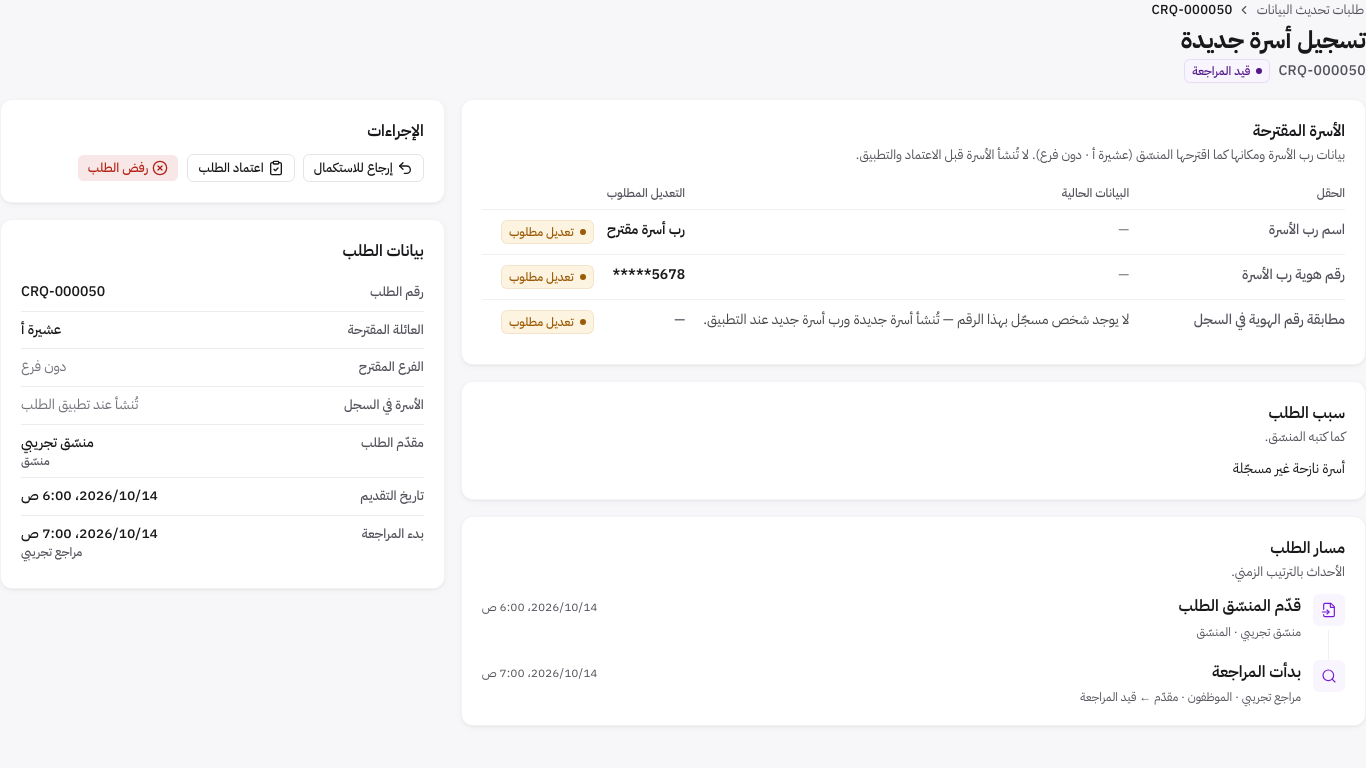
Test: the review of a proposed Family › words the placement attestation as Clan membership for a Family without a Branch
Click the button "اعتماد الطلب" at (241, 168), box [187,154,295,182]
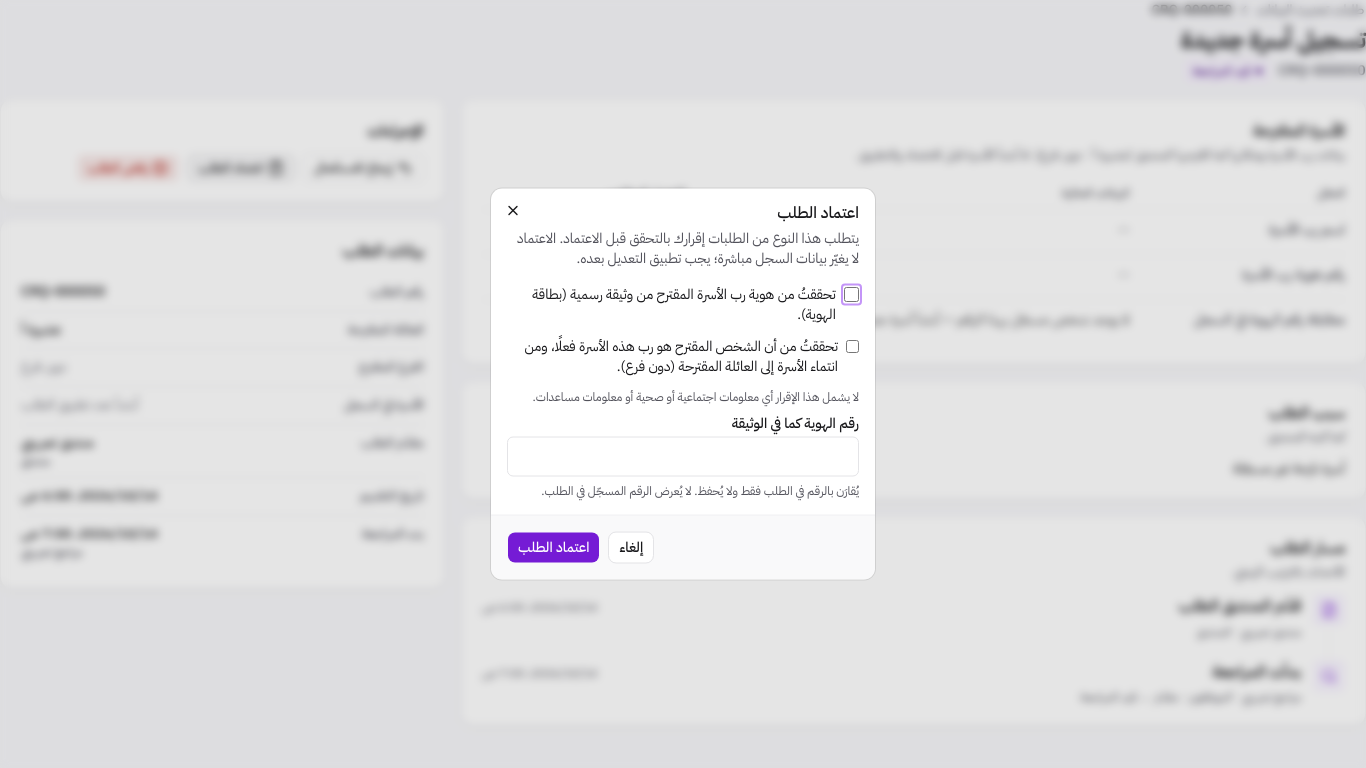
Expected: the text "تحققتُ من أن الشخص المقترح هو رب هذه الأسرة فعلًا، ومن انتماء الأسرة إلى العائلة المقترحة (دون فرع)." is shown, [524,336,838,376]
